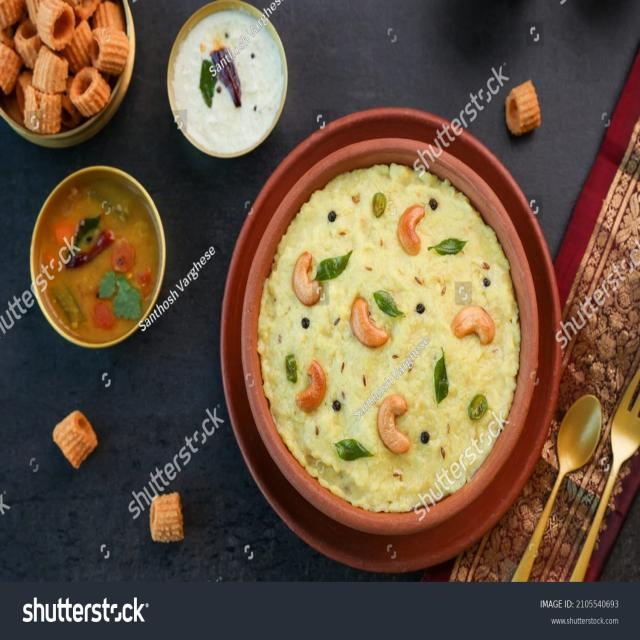khara pongal: (252, 148, 521, 526)
